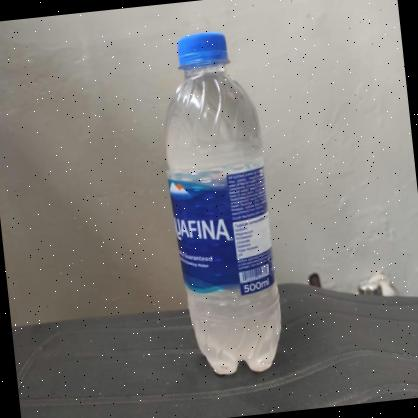bottle: (145, 25, 291, 380)
cap: (166, 28, 232, 74)
label: (170, 170, 282, 302)
